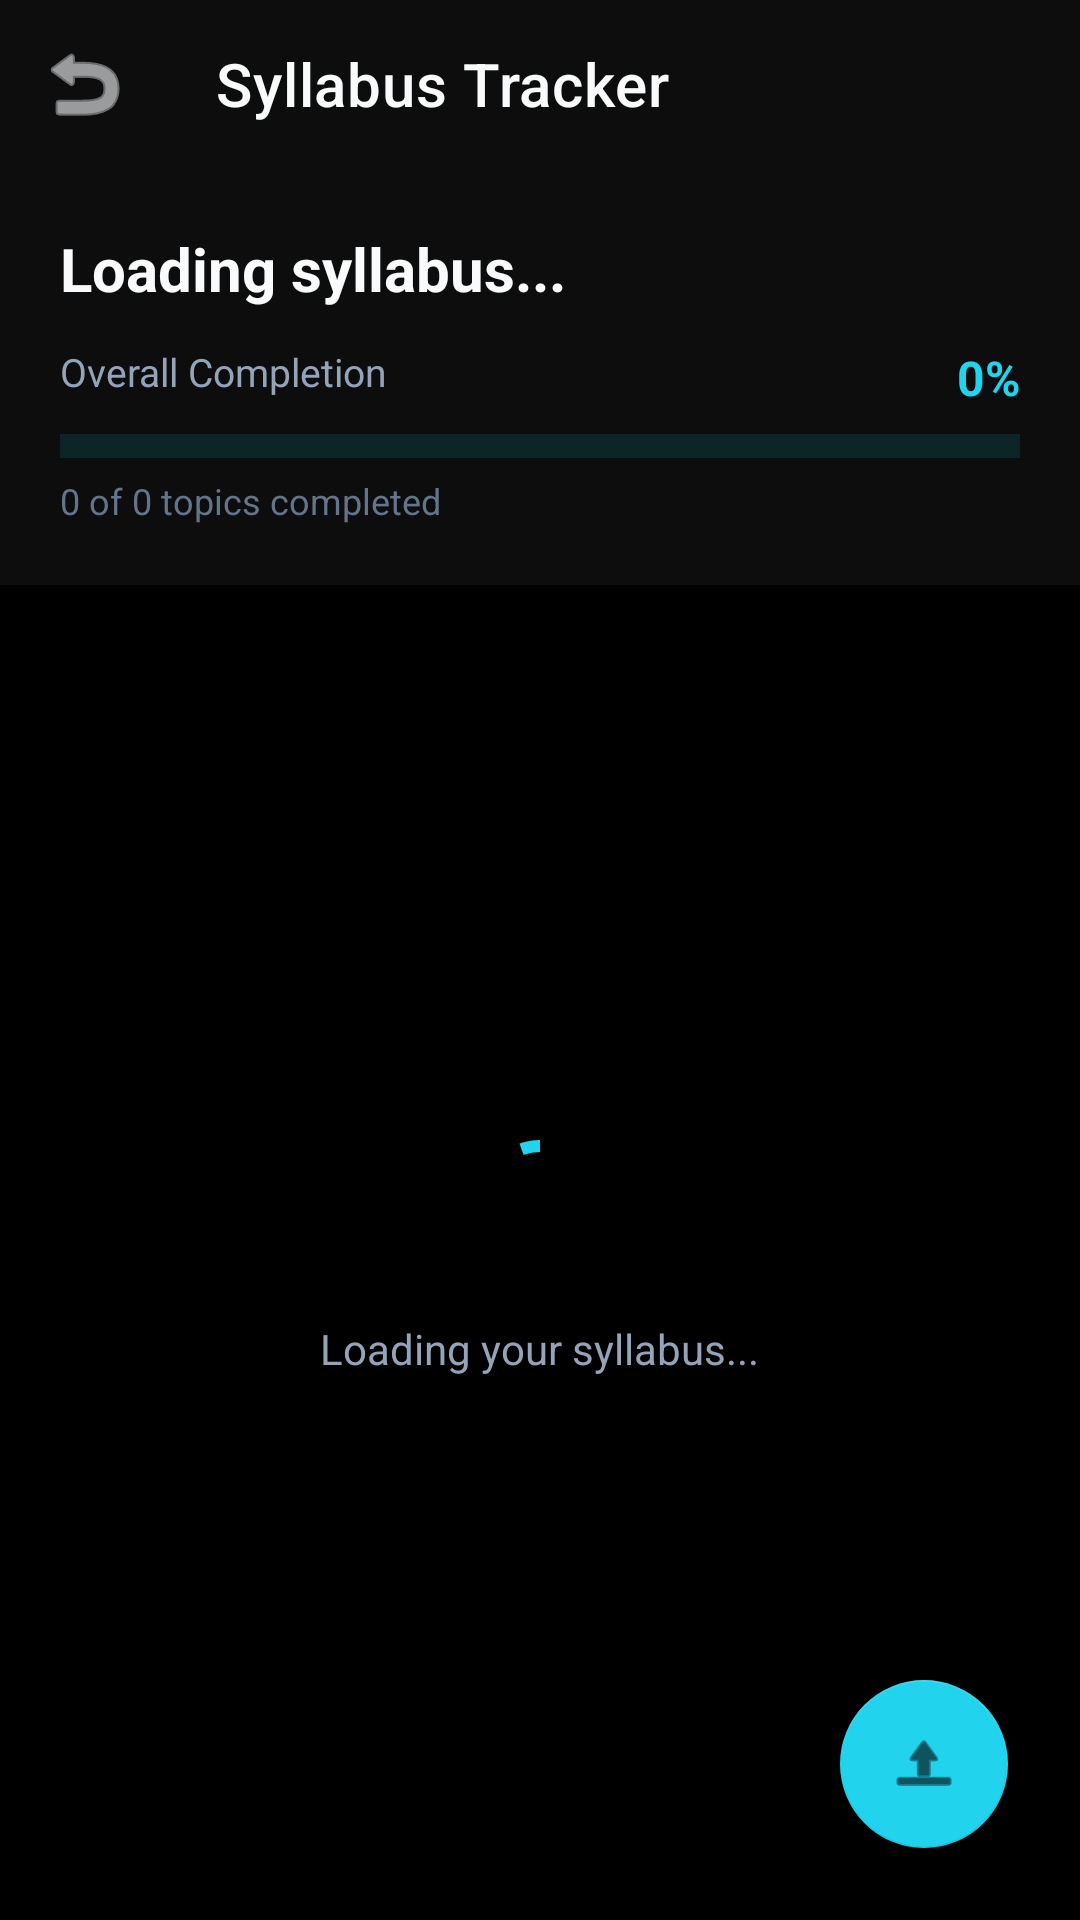

Icon bounding boxes for this 1080px x 1920px phone screenshot, format (x1, y1, x2, y2):
upload: (840, 1680, 1008, 1848)
